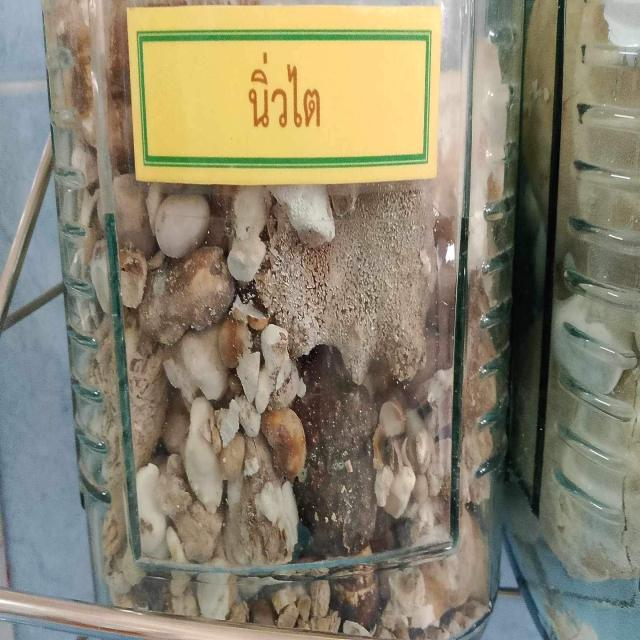General: (123, 5, 443, 186)
Pathological: (38, 1, 524, 638)
